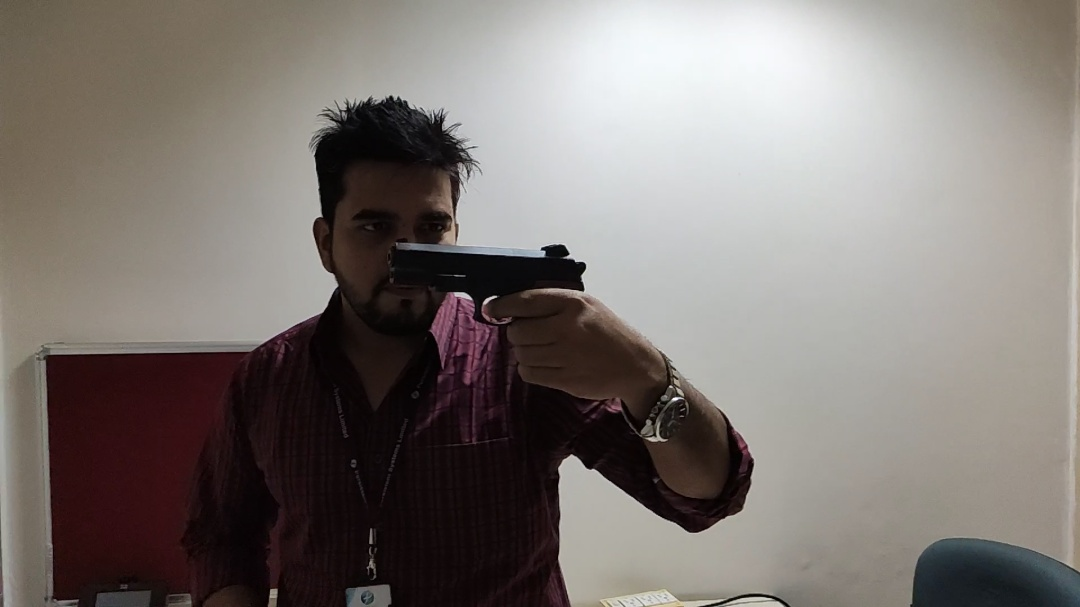gun: (389, 234, 598, 390)
